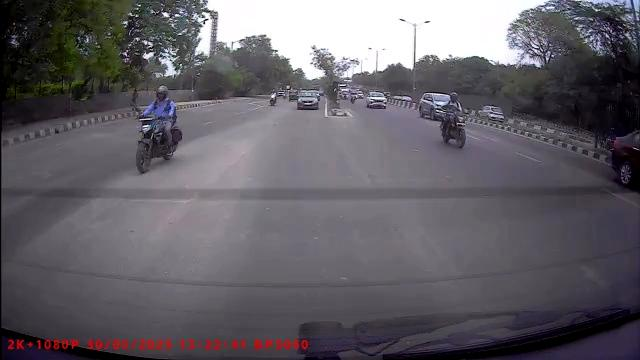motorcycle_with_helmet: (135, 83, 183, 174), (439, 91, 467, 149)
